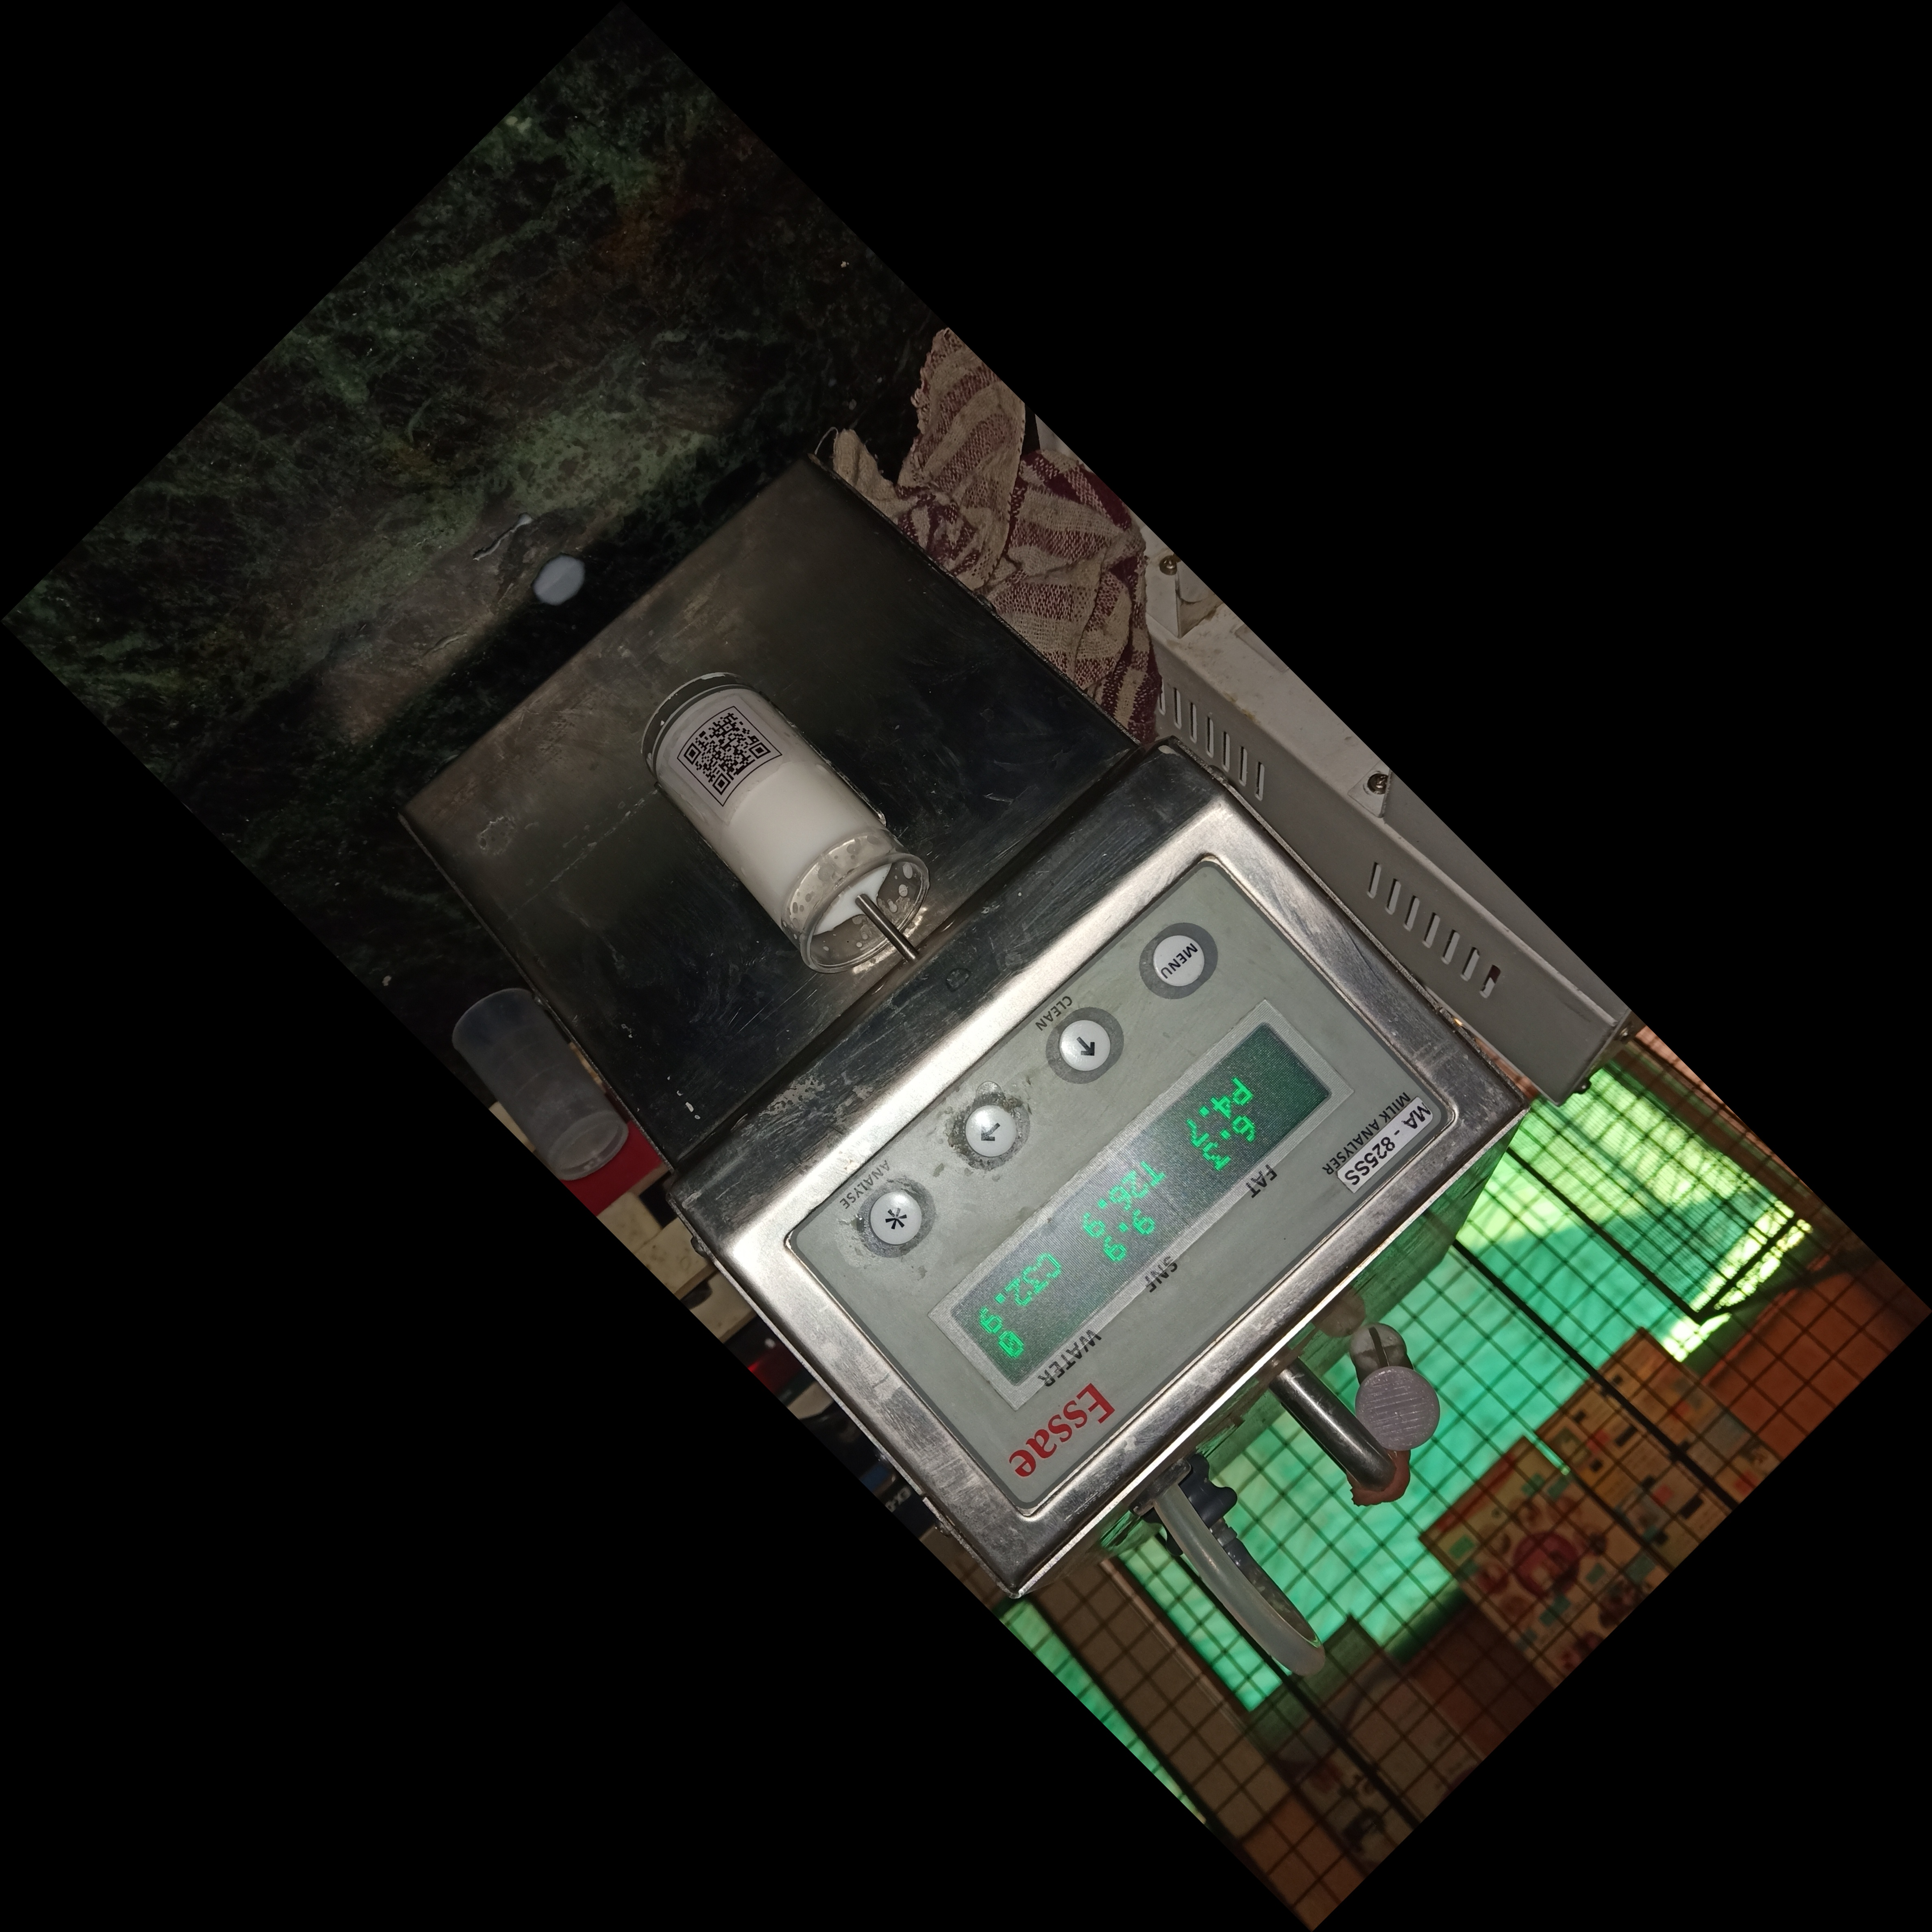lcd: (920, 975, 1355, 1431)
qr: (655, 688, 789, 819)
